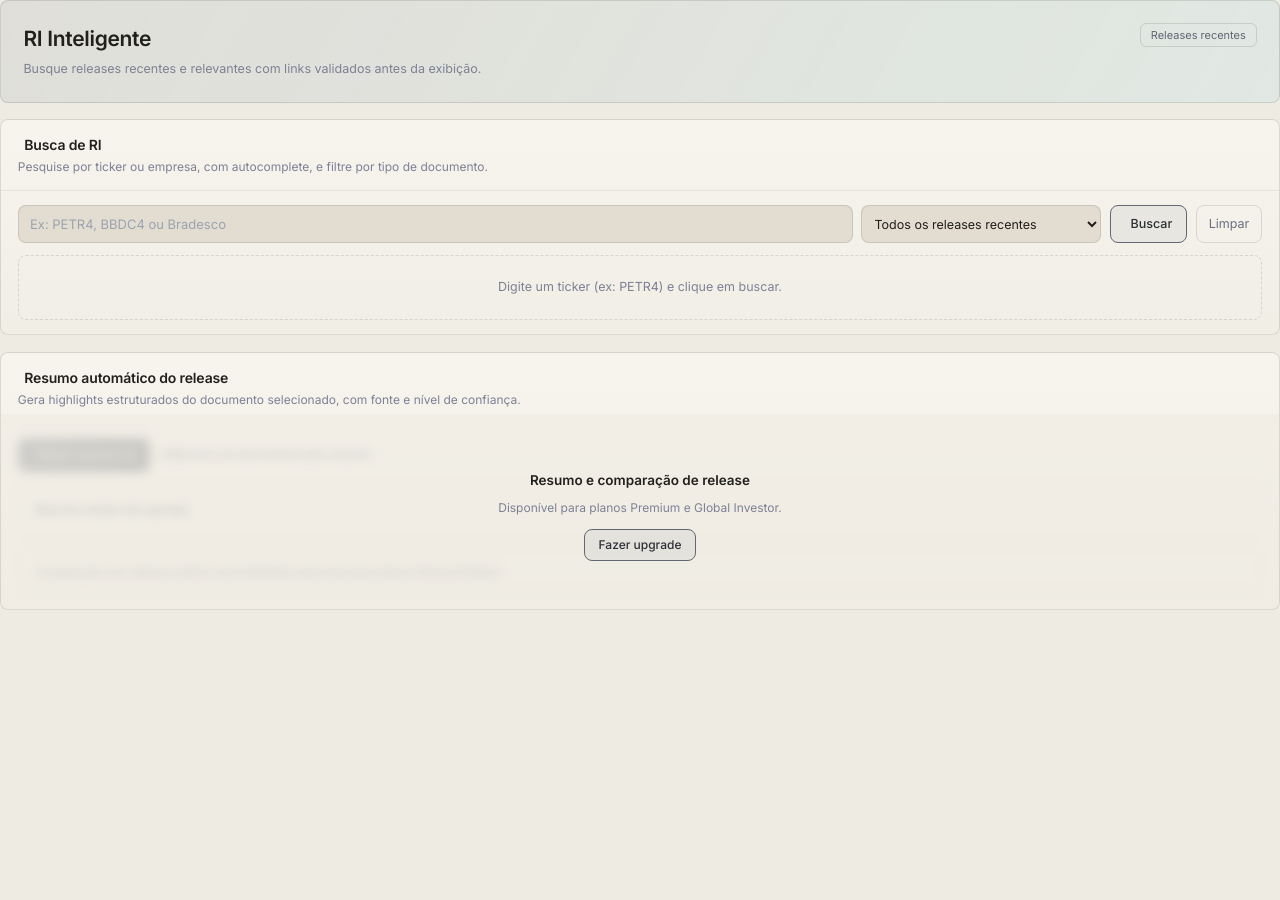
RiInteligente › applies plan gating for free users
In the field named "Busca de RI": [435, 224] box [18,205,853,243], type "BBDC4"
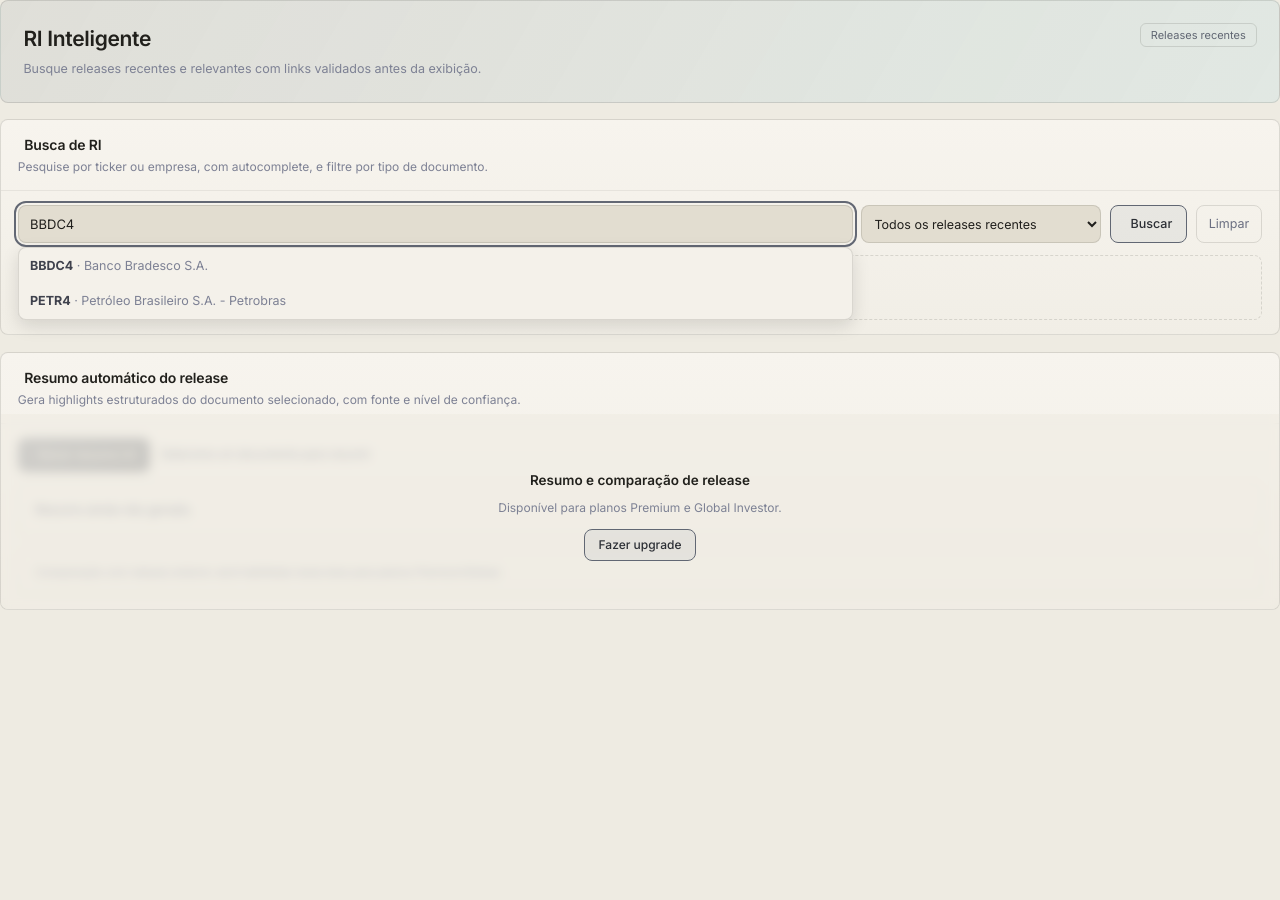
Click the button with test id "ri-apply-search": [1148, 224] box [1110,205,1187,243]
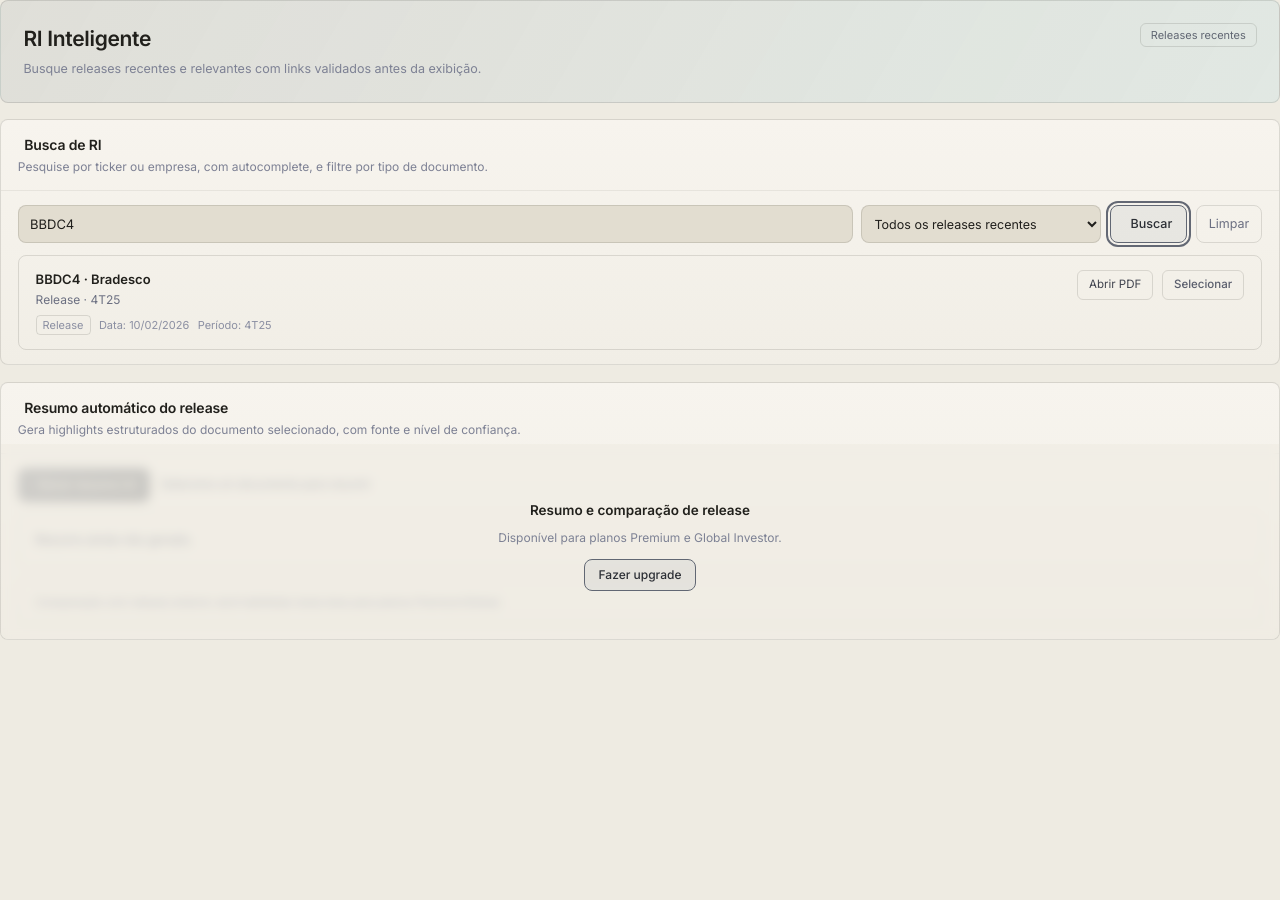
Expected: the text "Resumo e comparação de release" is shown, [530,500,750,521]
Expected: the text "BBDC4 · Bradesco" is shown, [36,271,151,287]
